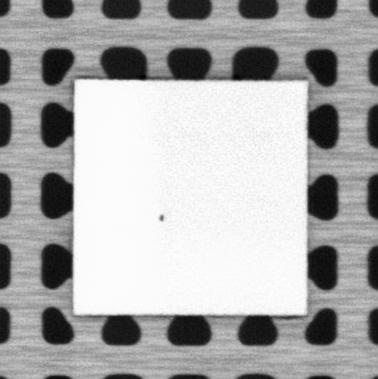DIE_INK: (157, 212, 166, 224)
